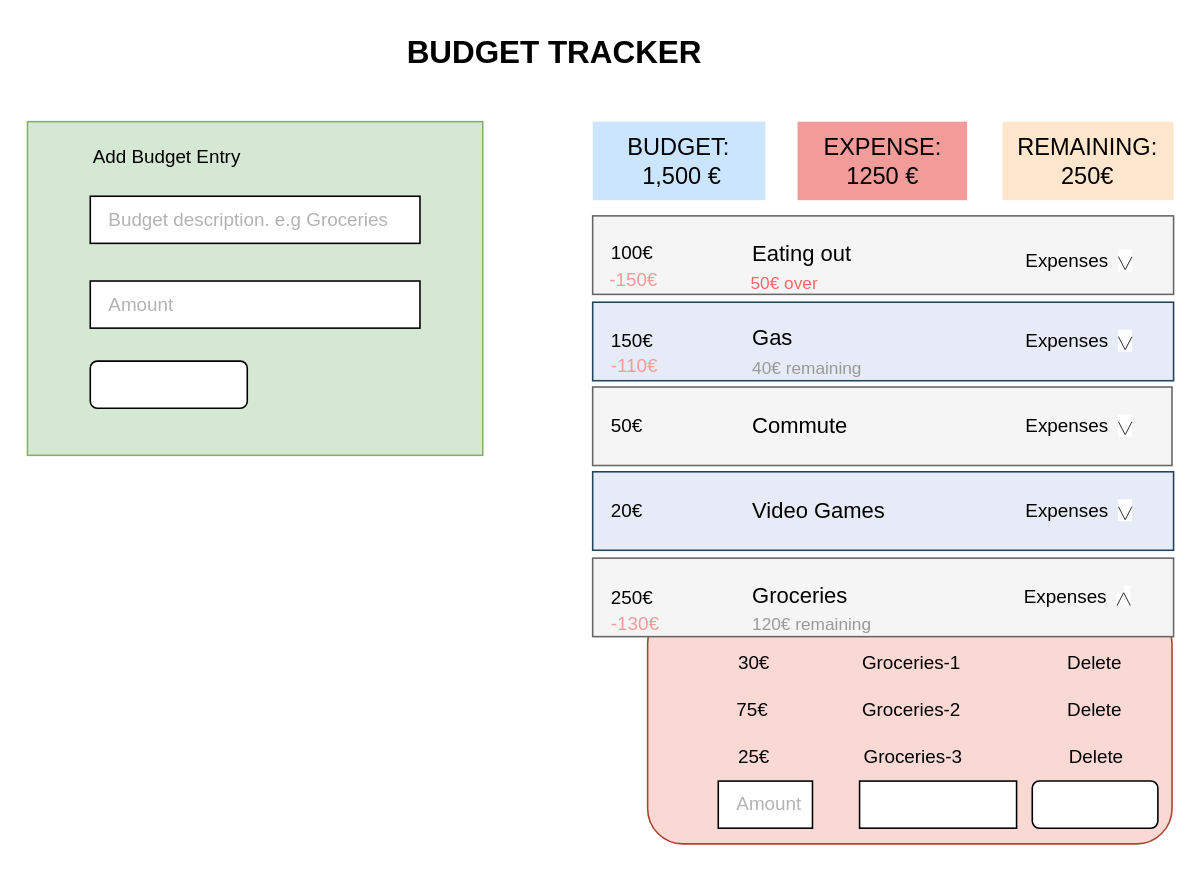
Some shapes in this 1201 by 871 pixel diagram are drawn without their labels. The shapes that lost their labels are listed below. From the top down, each one's centre as x and y in pixels, then its label:
pixel 168 384: Add
pixel 937 804: expense
pixel 1094 804: Add expense
